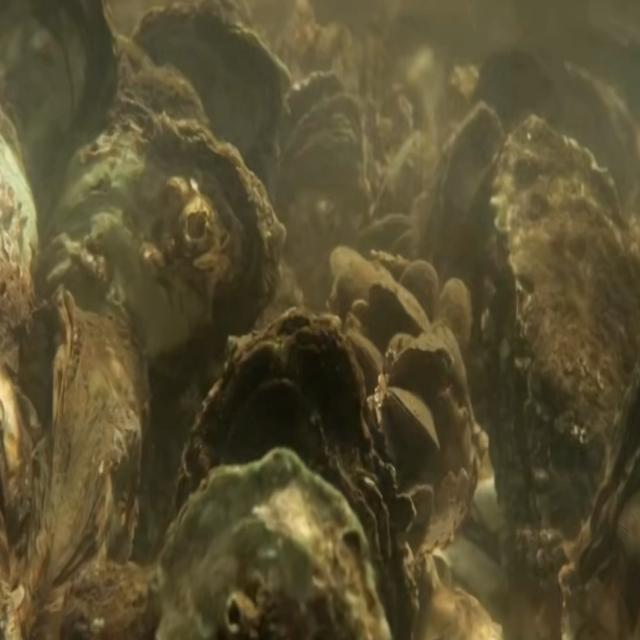Oyster-Closed: (52, 110, 286, 524), (177, 307, 417, 640), (480, 115, 640, 558), (154, 446, 392, 640), (385, 385, 439, 449), (390, 344, 454, 392)
Oyster-Indeterminate: (21, 283, 150, 640), (423, 100, 507, 330), (370, 278, 433, 332), (400, 259, 440, 331), (438, 277, 472, 352)
Oyster-Open: (268, 72, 365, 284)
